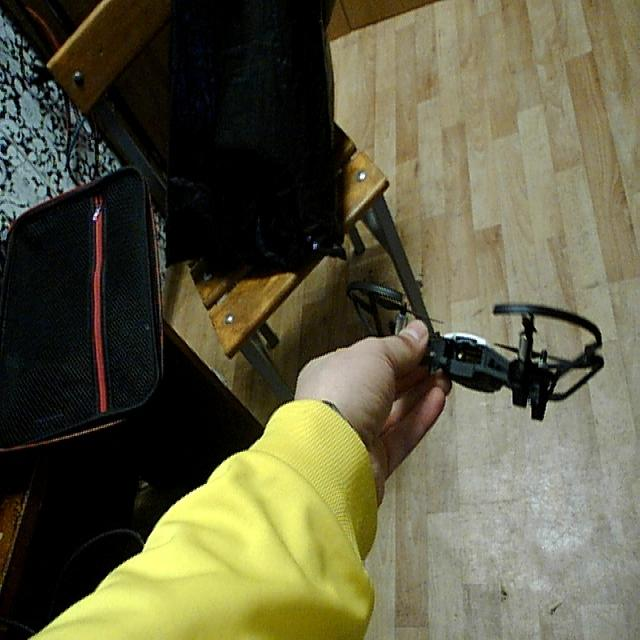drone: (338, 258, 616, 438)
